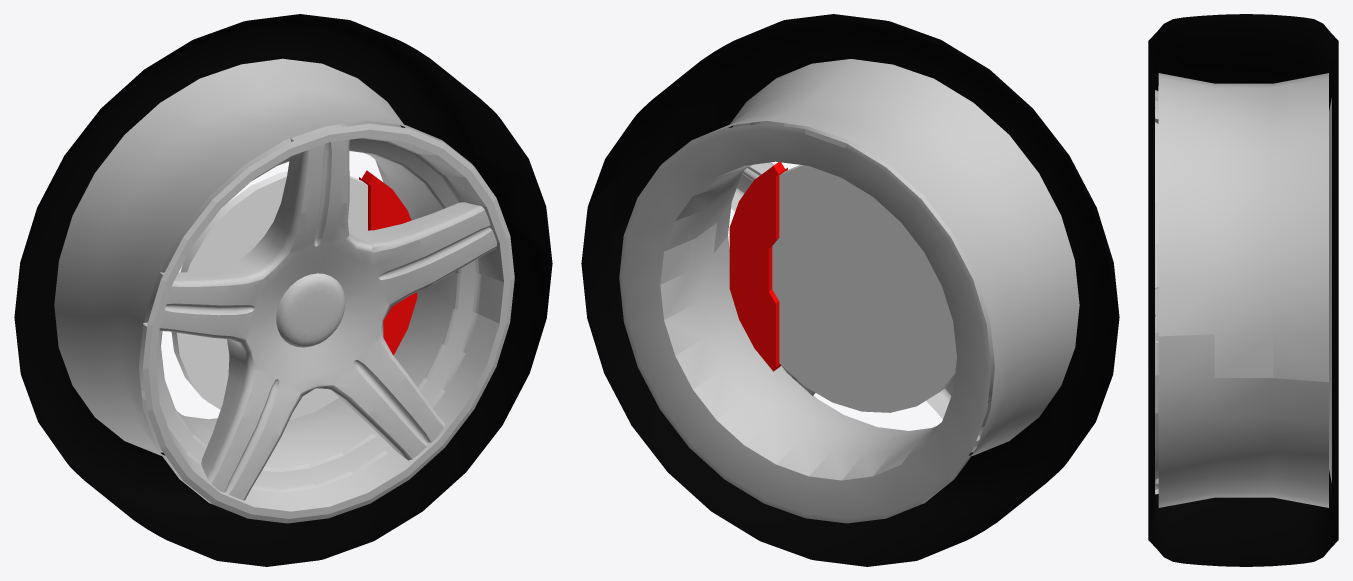
Rendered from FordEscort_Wheel_only.DAE.
3 views of the same model, side by side, from view 1: azimuth 30°, elevation 25°; view 2: azimuth 150°, elevation 25°; view 3: azimuth 270°, elevation 25° (orthographic).
Parts seen in each view (by area): view 1: Roda03, Wheel_07, TravaoDisco03, Travao03; view 2: Roda03, Wheel_07, TravaoDisco03, Travao03; view 3: Roda03, Wheel_07.
Boxes of the visible parts, x1,y1,x2,y2 form: Roda03: (54,58,514,523); Wheel_07: (14,14,552,566); TravaoDisco03: (171,171,367,419); Travao03: (359,170,417,355); Roda03: (619,59,1079,523); Wheel_07: (581,14,1119,566); TravaoDisco03: (772,165,956,412); Travao03: (729,162,787,371); Roda03: (1155,73,1331,507); Wheel_07: (1148,14,1338,566).
Size of the model in its own units: 0.5694 by 0.1962 by 0.5694.
